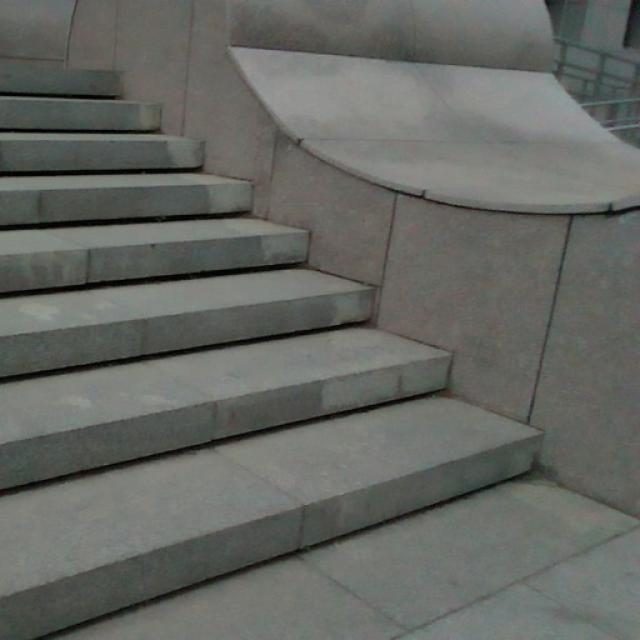stair: (0, 97, 507, 558)
